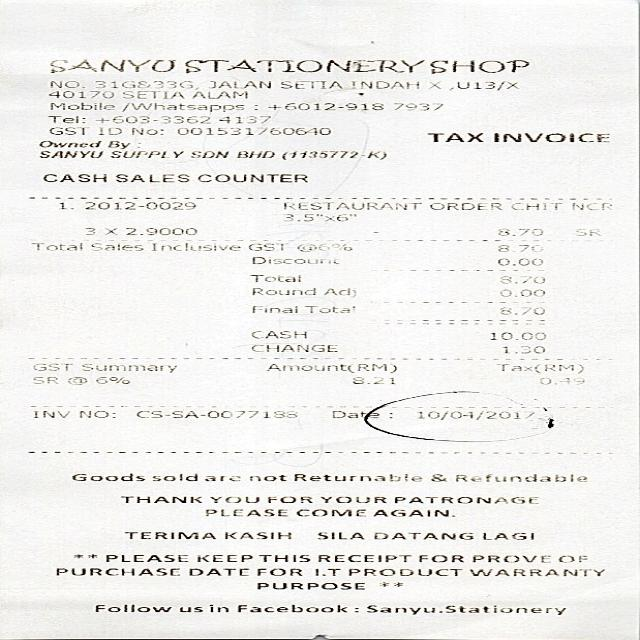text: (183, 58, 423, 72), (364, 604, 563, 614), (49, 59, 172, 72), (428, 59, 526, 73), (136, 410, 297, 418), (175, 126, 329, 134), (414, 410, 532, 420), (265, 363, 395, 372), (491, 131, 607, 141), (282, 201, 421, 209), (120, 102, 241, 111), (454, 473, 584, 481), (95, 115, 209, 124), (123, 532, 289, 538), (467, 568, 602, 575), (94, 79, 197, 88), (267, 102, 380, 110), (83, 201, 194, 209), (292, 474, 418, 481), (494, 362, 582, 372), (236, 603, 344, 611), (54, 567, 177, 574), (394, 496, 537, 502), (80, 362, 174, 371), (280, 150, 384, 158), (85, 227, 196, 234), (195, 174, 305, 181), (150, 242, 239, 250), (250, 256, 339, 264), (347, 568, 460, 574), (316, 554, 408, 561), (255, 582, 362, 588), (94, 604, 170, 612), (249, 344, 335, 351), (282, 213, 357, 221), (371, 532, 471, 538), (69, 472, 143, 480), (428, 202, 501, 210), (454, 80, 517, 89), (469, 554, 548, 561), (66, 375, 127, 384), (46, 90, 114, 98), (48, 101, 112, 109), (108, 150, 181, 157), (120, 90, 183, 98), (114, 174, 186, 181), (203, 509, 286, 515), (42, 173, 104, 181), (371, 509, 453, 515), (118, 496, 199, 502), (104, 554, 185, 560), (186, 567, 246, 575), (349, 80, 416, 87), (488, 332, 546, 340), (296, 243, 352, 251), (426, 132, 481, 140), (38, 140, 100, 147), (38, 150, 100, 157), (191, 90, 245, 98), (89, 242, 143, 250), (207, 80, 268, 87), (278, 80, 339, 87), (217, 115, 270, 123), (30, 242, 83, 250), (304, 305, 357, 313), (294, 509, 363, 515), (510, 202, 560, 210), (248, 273, 298, 281), (318, 496, 384, 502), (249, 288, 314, 294), (495, 258, 543, 266), (497, 288, 545, 296), (329, 410, 377, 418), (250, 330, 304, 337), (393, 102, 440, 110), (498, 275, 545, 283), (498, 306, 545, 314), (178, 604, 225, 612), (496, 244, 542, 252), (349, 376, 395, 384), (538, 376, 584, 384), (254, 567, 300, 575), (500, 345, 545, 353), (150, 472, 194, 480), (570, 202, 612, 210), (246, 242, 288, 250), (249, 305, 297, 312), (496, 228, 543, 235), (44, 115, 85, 123), (47, 126, 88, 134), (31, 362, 71, 370), (197, 554, 249, 560), (418, 554, 461, 561), (480, 532, 530, 538), (31, 410, 68, 418), (78, 410, 114, 418), (208, 496, 256, 502), (315, 532, 362, 538), (260, 554, 307, 560), (234, 150, 273, 157), (322, 288, 356, 296), (266, 496, 309, 502), (130, 127, 162, 135), (48, 80, 78, 88), (190, 150, 227, 156), (247, 474, 284, 480), (97, 126, 121, 134), (31, 376, 57, 383), (107, 140, 129, 148), (575, 228, 600, 235), (555, 555, 584, 561), (202, 475, 236, 480), (313, 568, 338, 574), (428, 474, 445, 481), (57, 202, 66, 208), (429, 81, 437, 87)
